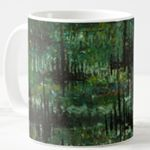cups: (2, 8, 137, 149)
